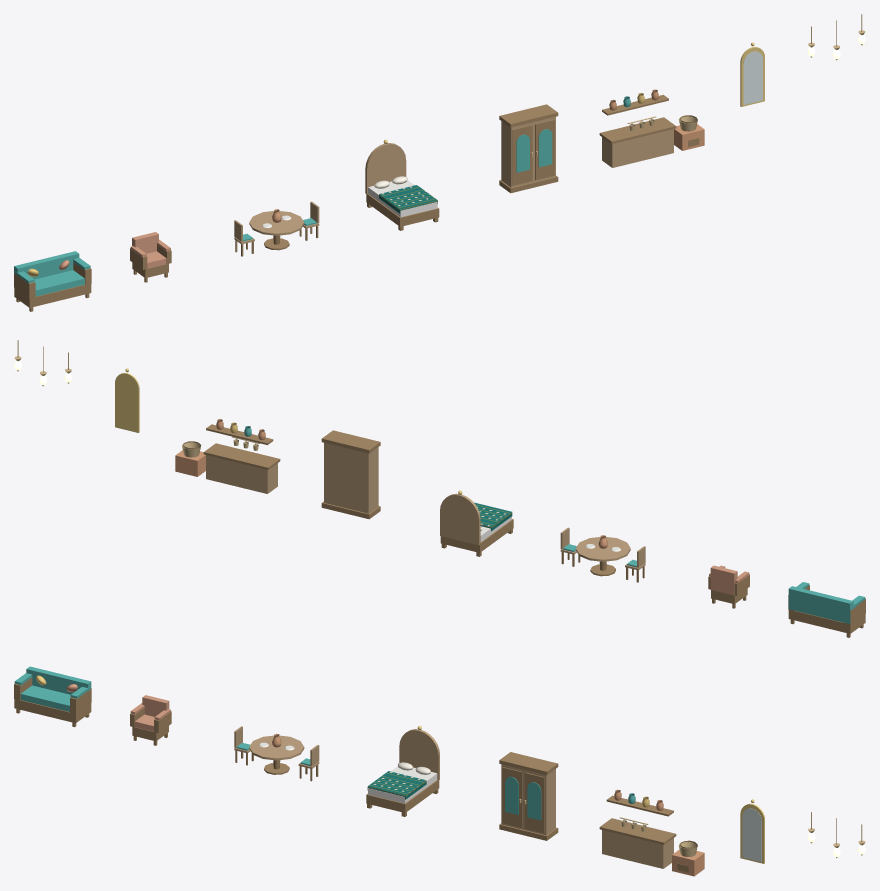
Rendered from kit-21-interior-2.glb.
3 renders of one model, top to bottom at view 1: azimuth 30°, elevation 25°; view 2: azimuth 150°, elevation 25°; view 3: azimuth 330°, elevation 25°, orthographic.
Visible parts, largest first — view 1: PropIn2_LemariPakaian, PropIn2_RakDapur, PropIn2_TempatTidur, PropIn2_SofaTamu, PropIn2_MejaMakan, PropIn2_KursiTamu, PropIn2_Cermin; view 2: PropIn2_RakDapur, PropIn2_LemariPakaian, PropIn2_TempatTidur, PropIn2_SofaTamu, PropIn2_MejaMakan, PropIn2_Cermin, PropIn2_KursiTamu; view 3: PropIn2_LemariPakaian, PropIn2_RakDapur, PropIn2_TempatTidur, PropIn2_SofaTamu, PropIn2_MejaMakan, PropIn2_KursiTamu, PropIn2_Cermin.
Part boxes in pixels (box(x1,y1,x2,y2)): PropIn2_LemariPakaian: box(499, 104, 558, 193); PropIn2_RakDapur: box(599, 89, 704, 167); PropIn2_TempatTidur: box(365, 139, 439, 230); PropIn2_SofaTamu: box(14, 251, 91, 311); PropIn2_MejaMakan: box(234, 201, 319, 256); PropIn2_KursiTamu: box(130, 232, 171, 282); PropIn2_Cermin: box(740, 42, 764, 106); PropIn2_RakDapur: box(175, 419, 280, 493); PropIn2_LemariPakaian: box(321, 430, 380, 519); PropIn2_TempatTidur: box(440, 490, 513, 556); PropIn2_SofaTamu: box(788, 582, 865, 637); PropIn2_MejaMakan: box(560, 527, 645, 582); PropIn2_Cermin: box(115, 368, 139, 432); PropIn2_KursiTamu: box(708, 565, 749, 608); PropIn2_LemariPakaian: box(499, 752, 558, 840); PropIn2_RakDapur: box(599, 789, 704, 876); PropIn2_TempatTidur: box(366, 726, 439, 816); PropIn2_SofaTamu: box(14, 666, 91, 727); PropIn2_MejaMakan: box(234, 726, 319, 781); PropIn2_KursiTamu: box(130, 695, 171, 745); PropIn2_Cermin: box(740, 799, 764, 863).
Size of the model in its own units: 30.14 by 3 by 2.16.
13 materials, 1 textured.
